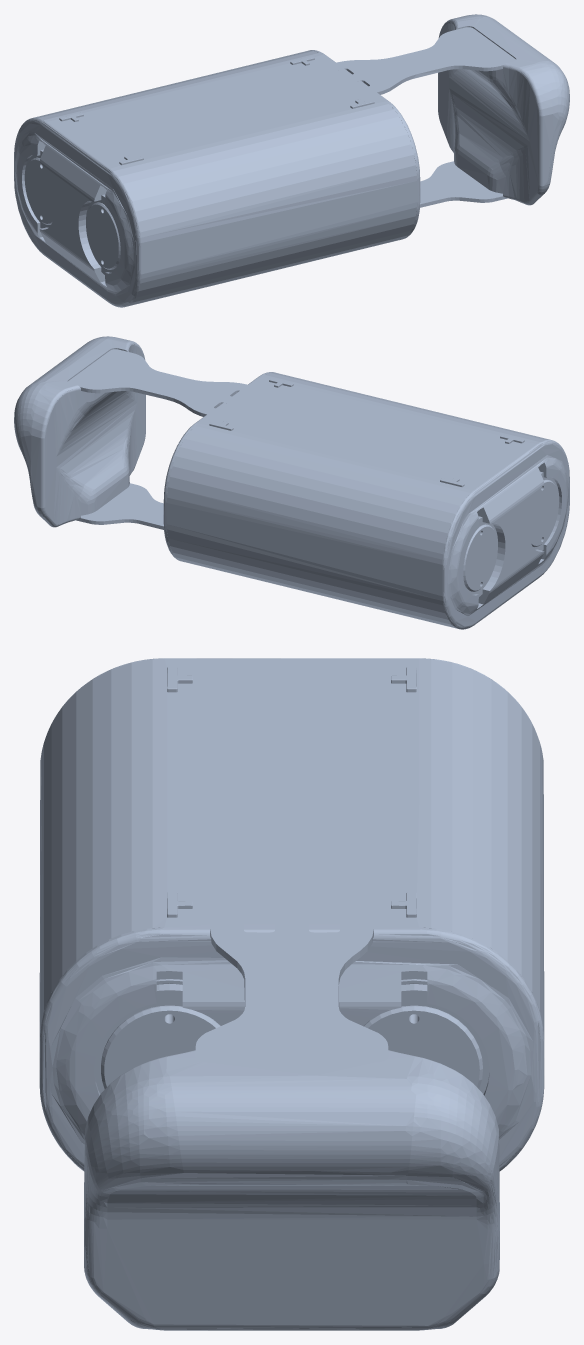
File: trunk.dae
3 renders of one model, top to bottom at view 1: azimuth 30°, elevation 25°; view 2: azimuth 150°, elevation 25°; view 3: azimuth 270°, elevation 25°, orthographic. The views are drawn at different scales.
Parts seen in each view (by area): view 1: 机身组件2020(1); view 2: 机身组件2020(1); view 3: 机身组件2020(1).
Boxes of the visible parts, box(x1,y1,x2,y2) form: 机身组件2020(1): box(14, 14, 569, 307); 机身组件2020(1): box(14, 336, 569, 629); 机身组件2020(1): box(39, 658, 544, 1330).
Size of the model in its own units: 0.4142 by 0.194 by 0.117.
